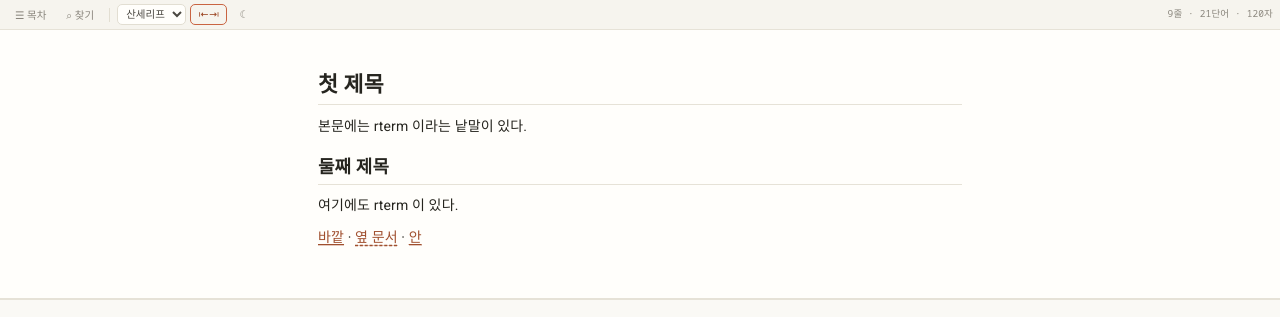
Test: 표시 설정 › 테마를 바꾸면 창에 어두운 표시가 붙는다
Click the button "☾" at [244, 14], box x1=232 y1=4 x2=257 y2=25
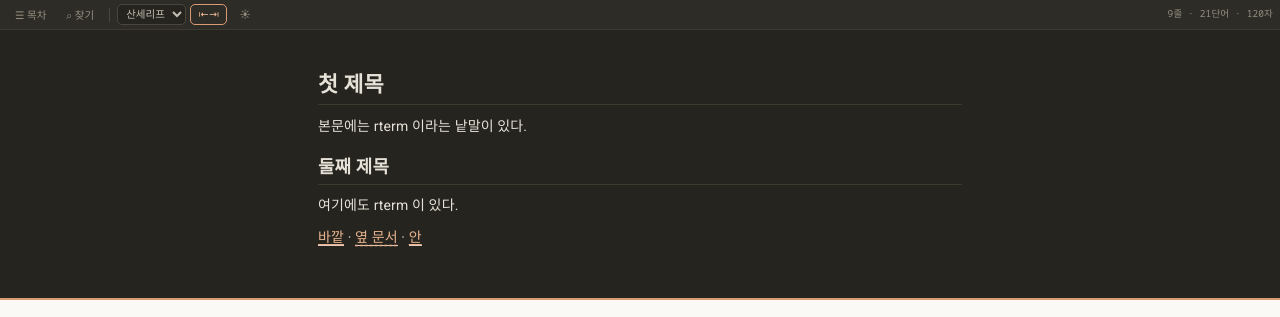
Expected: the element with class "md-pane--dark" is shown
